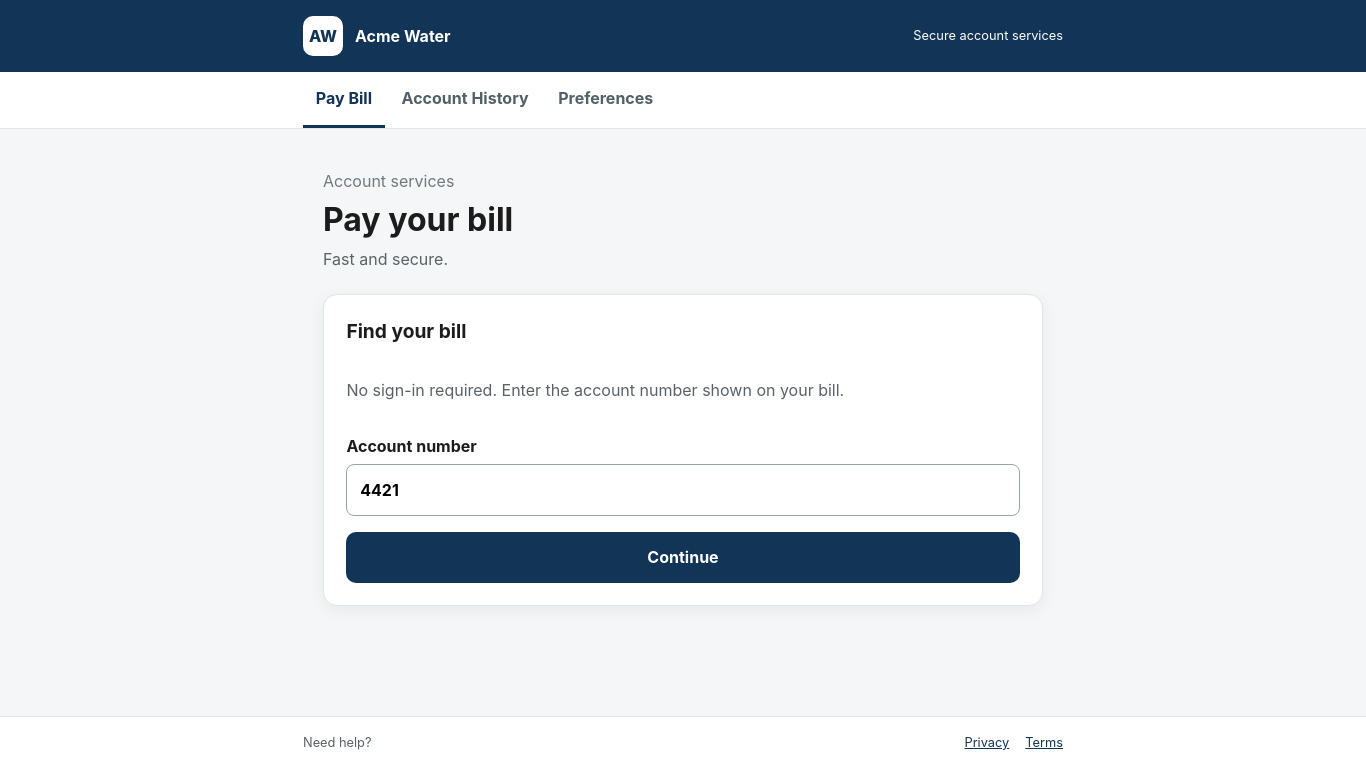
Test case: QA fixes › review consent copy matches the pay button label
Click the button with test id "lookup-submit": coordinates (683, 557) [346,532,1020,583]
(page scrolled)
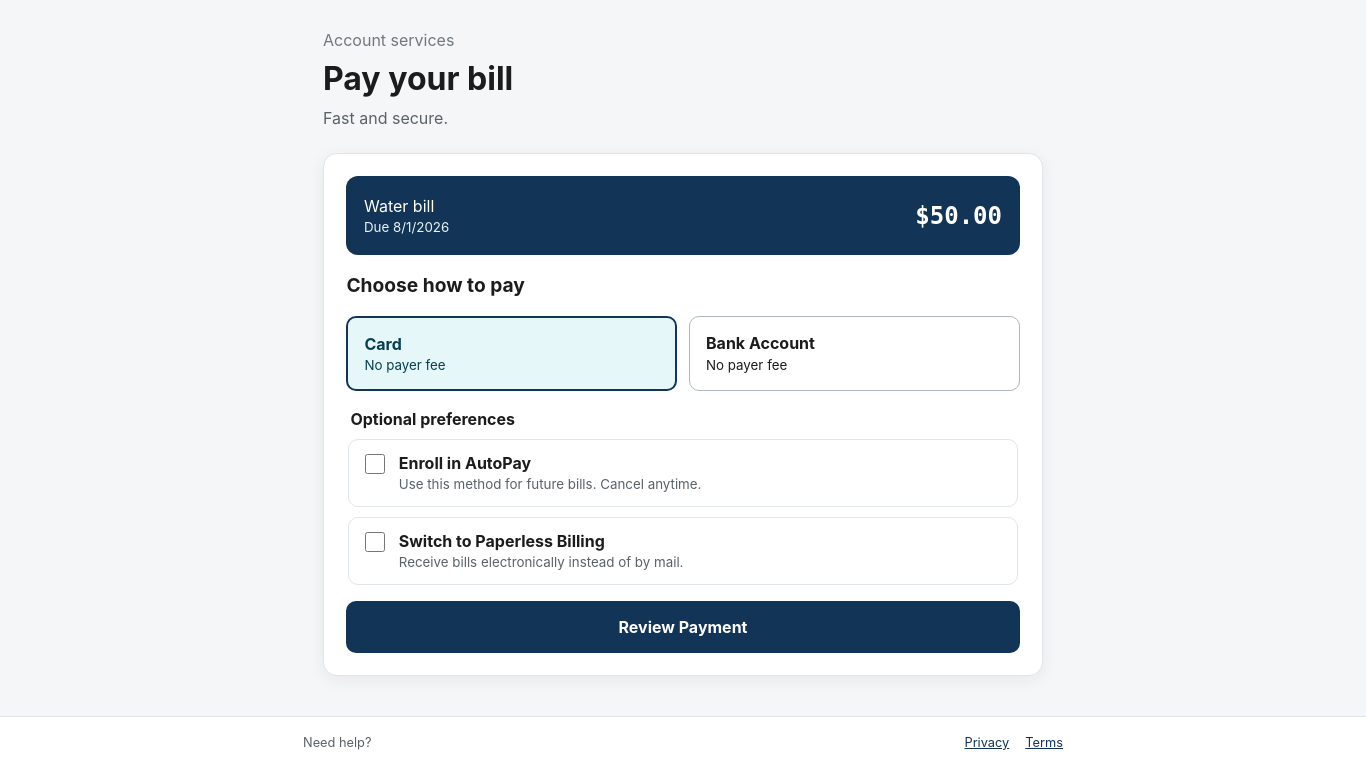
Click the button with test id "review-submit": coordinates (683, 627) [346,601,1020,653]
(page scrolled)
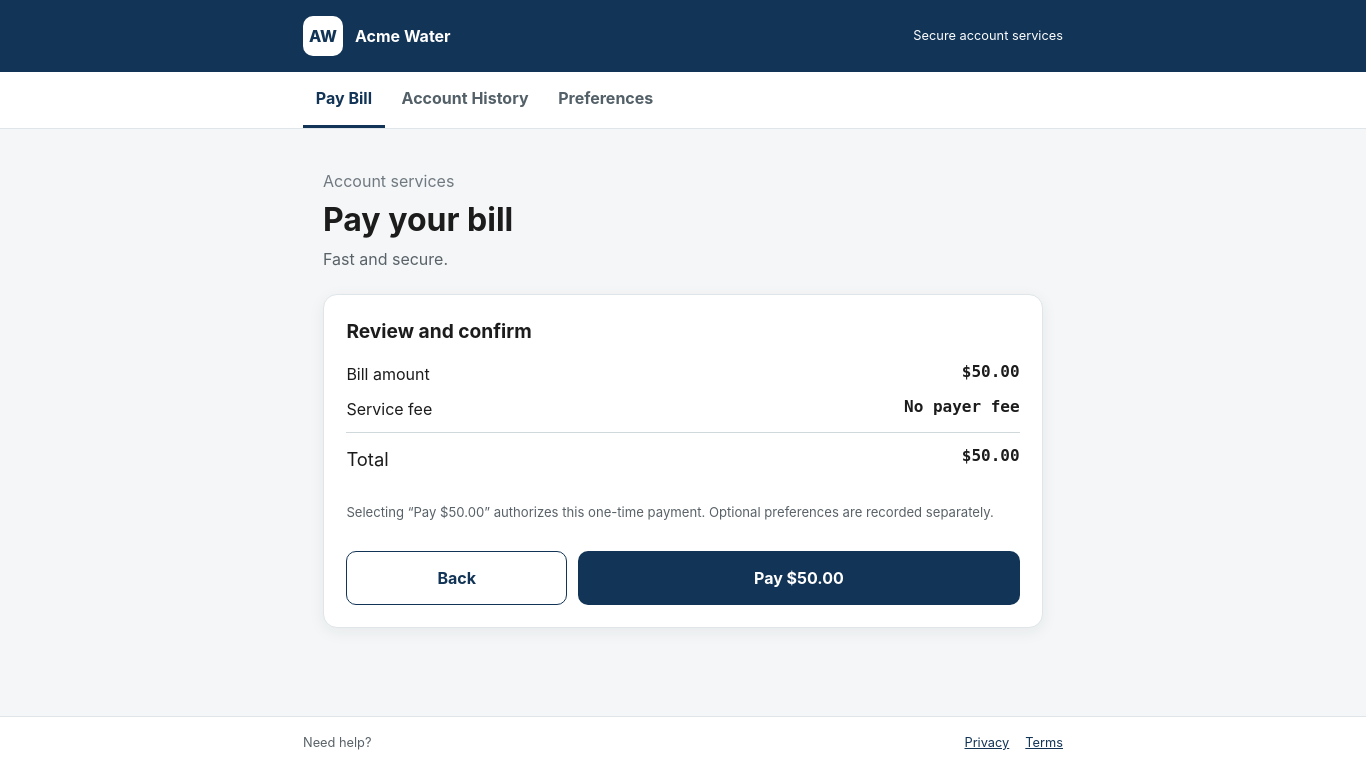
Check: the button with test id "pay-submit" reads "Pay $50.00", box [578,551,1020,605]
Check: the text with class "consent" shows "Pay $50.00", box [414,504,484,520]
